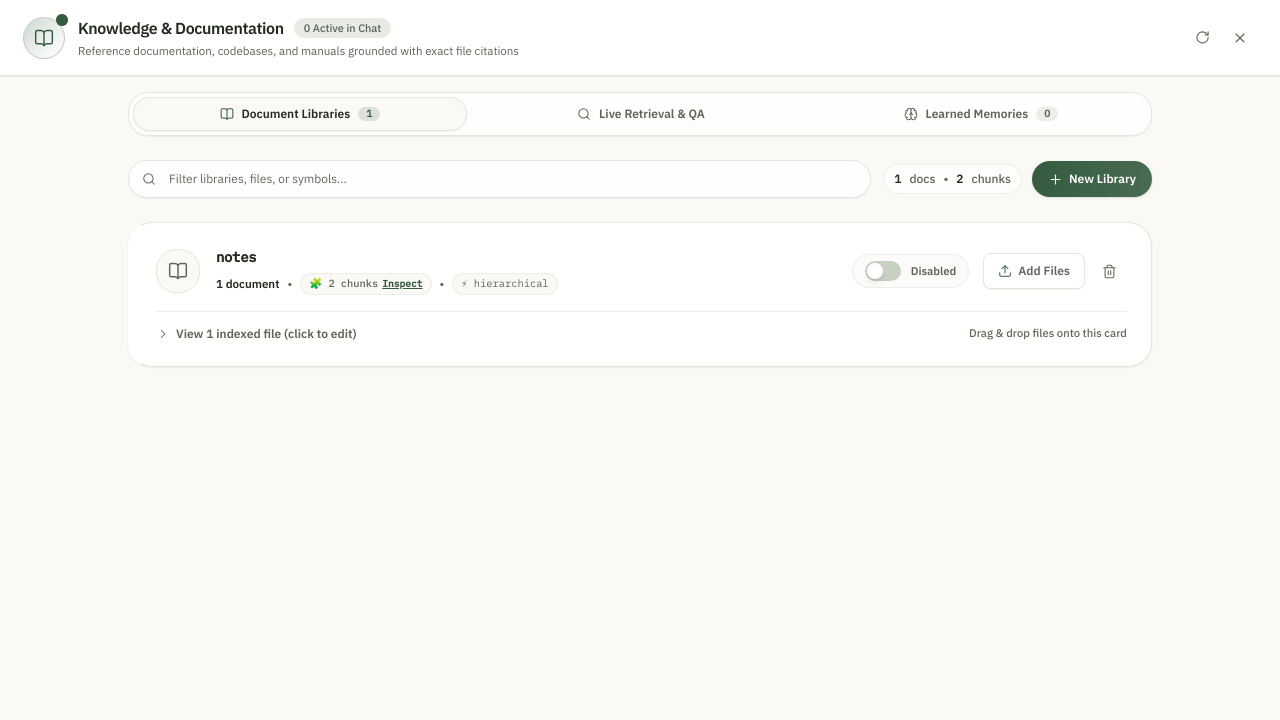
Scenario: knowledge chunk paging › accepts legacy servers without a cursor
The width and height of the screenshot is (1280, 720).
Click the button titled "Inspect actual chunks and AST boundaries".
click(366, 284)  # box [300,273,432,295]
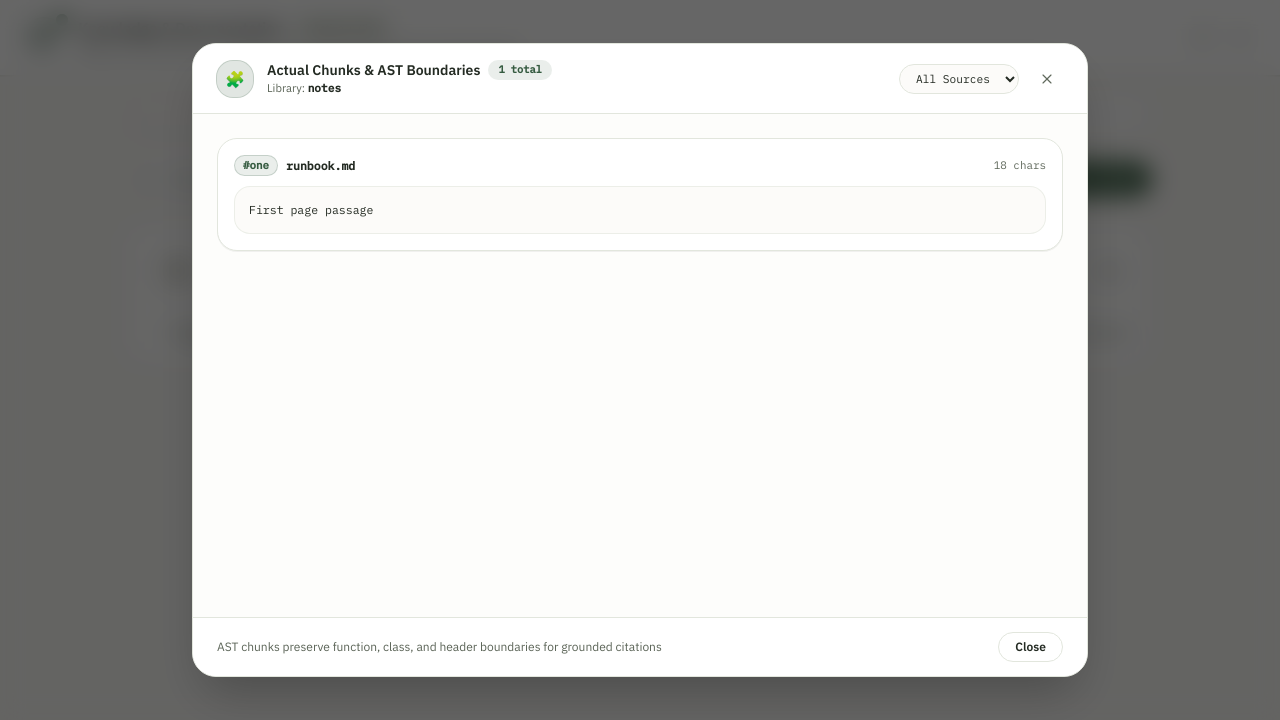
Expected: the text "First page passage" is shown, [234,186,1046,234]
